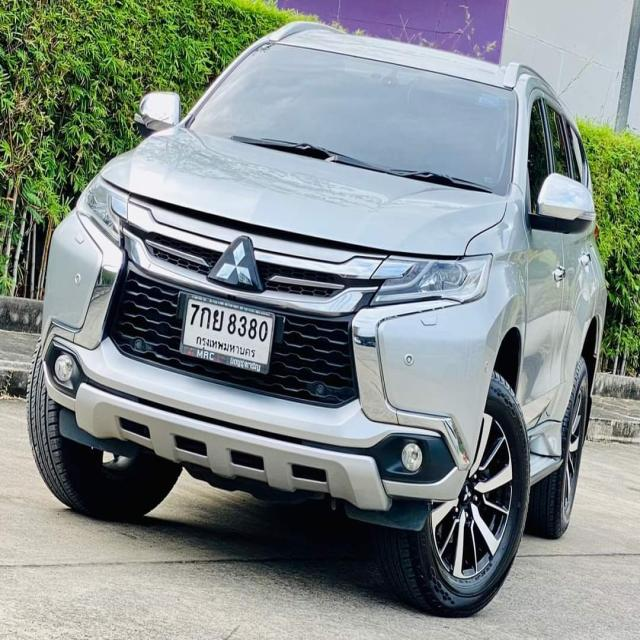license_plate: (179, 288, 278, 378)
